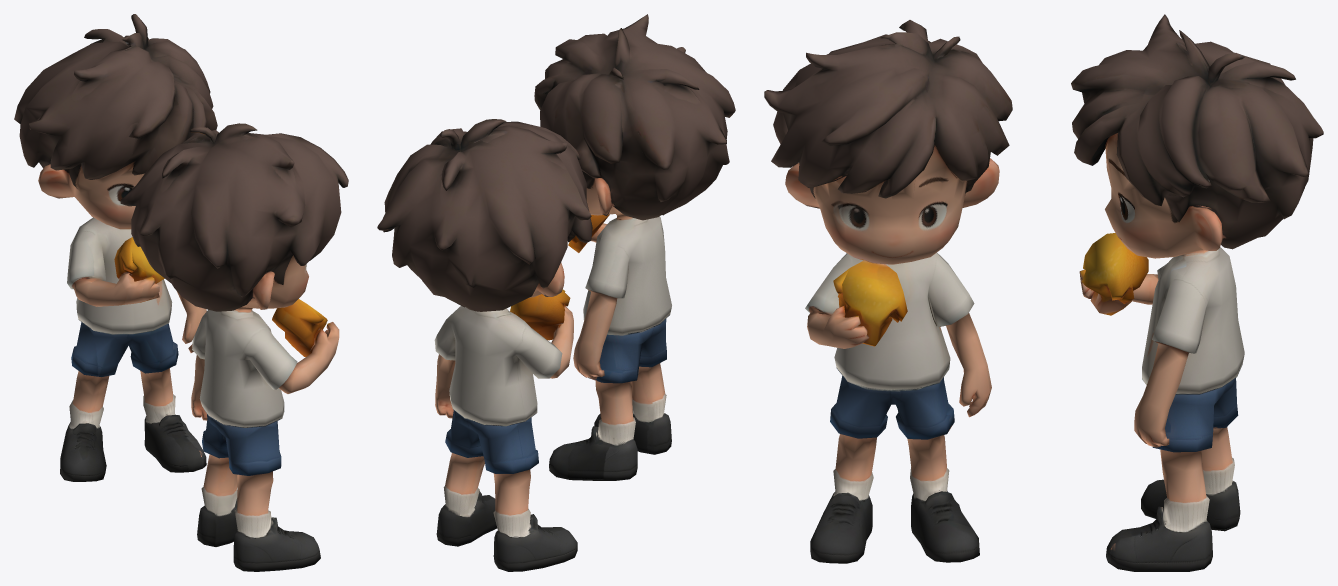
Rendered from tile23.glb.
The picture shows the model from 3 angles, left to right: view 1: azimuth 30°, elevation 25°; view 2: azimuth 150°, elevation 25°; view 3: azimuth 270°, elevation 25°; orthographic projection. The views are drawn at different scales.
Parts seen in each view (by area): view 1: tripo_node_efa4f668-bac7-4743-80a9-d088d03c6275; view 2: tripo_node_efa4f668-bac7-4743-80a9-d088d03c6275; view 3: tripo_node_efa4f668-bac7-4743-80a9-d088d03c6275.
Boxes of the visible parts, box(x1,y1,x2,y2) form: tripo_node_efa4f668-bac7-4743-80a9-d088d03c6275: box(14, 14, 348, 571); tripo_node_efa4f668-bac7-4743-80a9-d088d03c6275: box(377, 14, 735, 571); tripo_node_efa4f668-bac7-4743-80a9-d088d03c6275: box(764, 14, 1323, 571).
Size of the model in its own units: 0.4824 by 0.998 by 0.998.
Materials: 1 (1 with a texture image).
